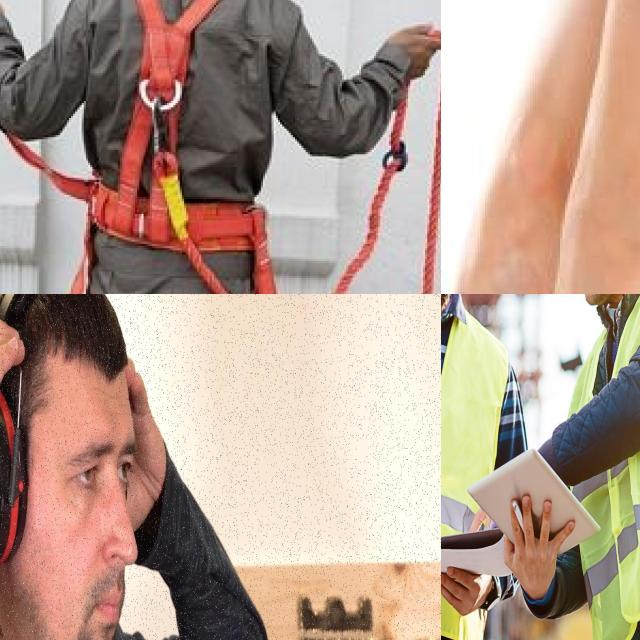Barefoots: (441, 147, 623, 294), (553, 158, 640, 294)
Ear-protection: (0, 294, 172, 640)
Harness: (58, 0, 286, 294)
No_Glasses: (51, 416, 133, 505)
hand_noglove: (496, 488, 571, 591)
person: (538, 294, 640, 635), (441, 294, 524, 640)
vest: (561, 294, 640, 603), (441, 294, 508, 617)
